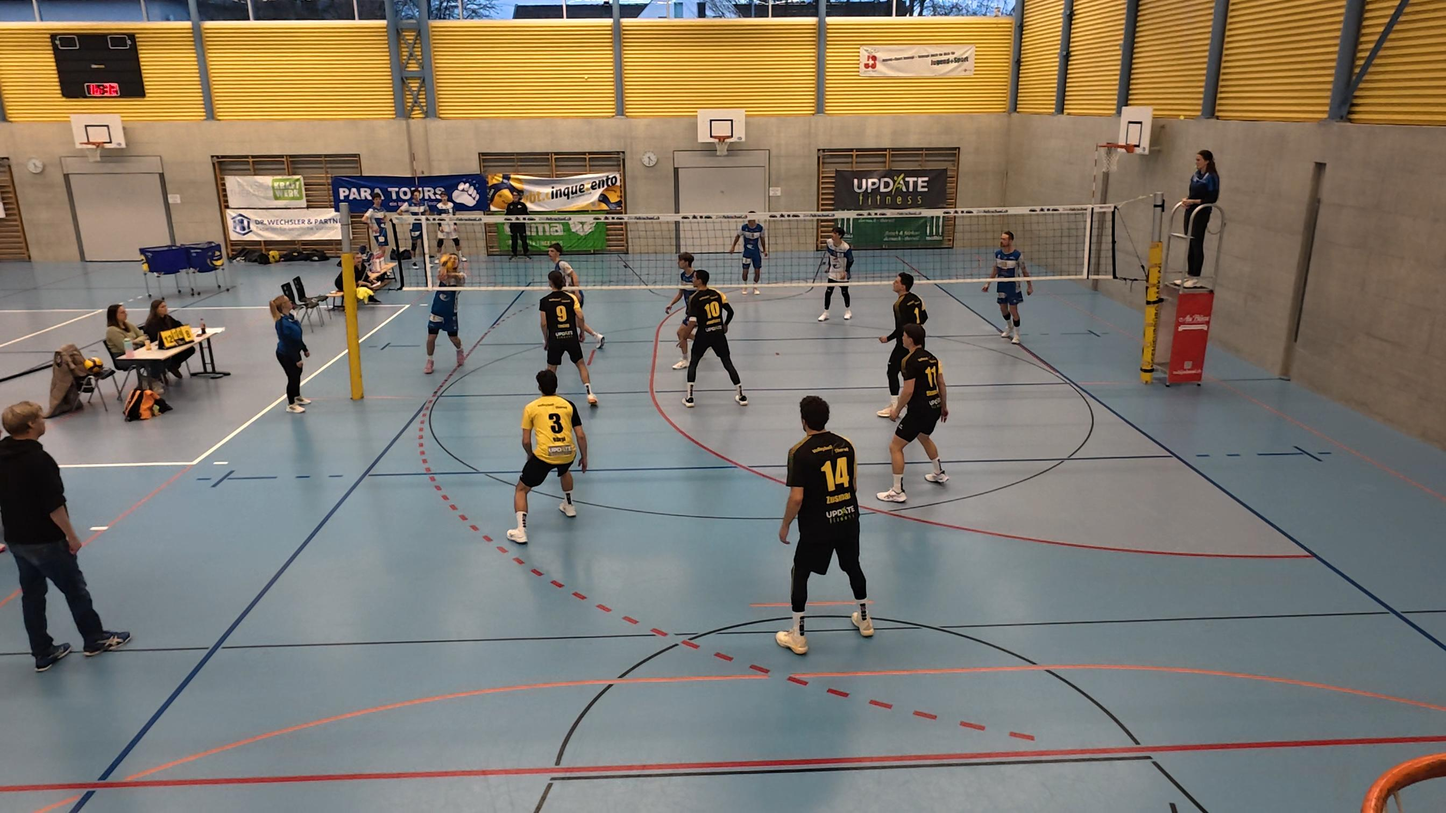Player: (775, 396, 874, 653), (507, 371, 583, 546), (876, 326, 950, 504), (683, 276, 747, 407), (536, 273, 597, 405), (876, 270, 928, 420), (988, 231, 1030, 346), (668, 249, 704, 367), (816, 227, 855, 325), (726, 211, 767, 300), (543, 239, 586, 303)
Set: (420, 246, 468, 375)
ball: (438, 250, 457, 275)
